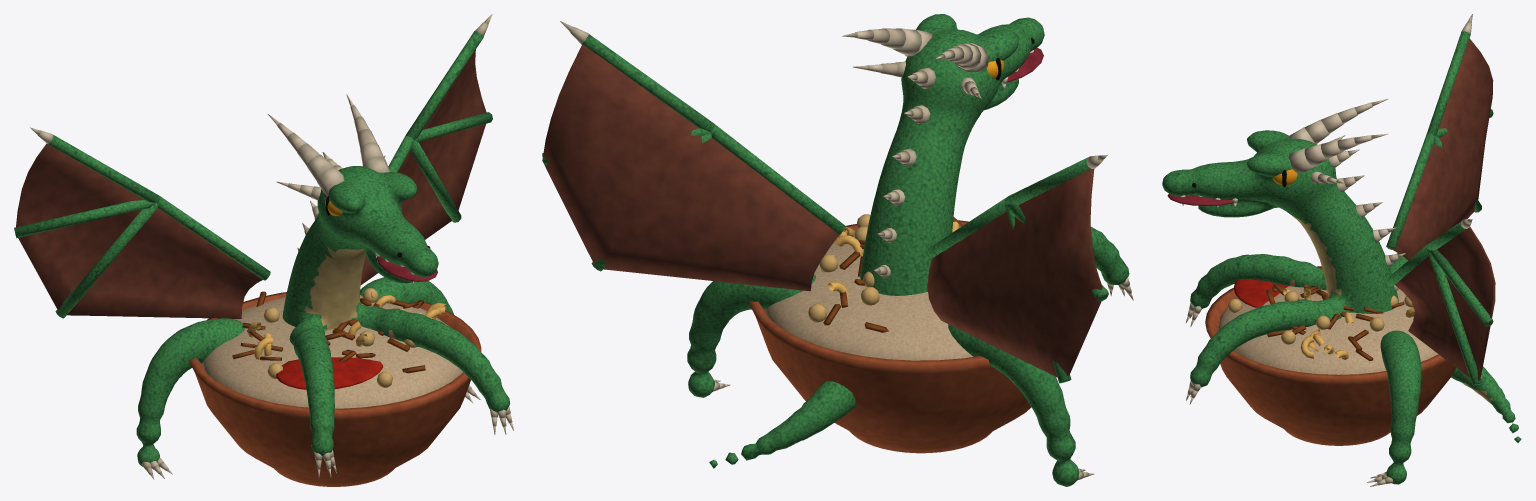
File: KosharyDragonReal.fbx
3 renders of one model, left to right at view 1: azimuth 30°, elevation 25°; view 2: azimuth 150°, elevation 25°; view 3: azimuth 270°, elevation 25°, orthographic. The views are drawn at different scales.
Parts seen in each view (by area): view 1: KosharyDragonReal; view 2: KosharyDragonReal; view 3: KosharyDragonReal.
Boxes of the visible parts, bbox=[...] form: KosharyDragonReal: bbox=[14, 14, 513, 486]; KosharyDragonReal: bbox=[542, 14, 1133, 486]; KosharyDragonReal: bbox=[1162, 14, 1521, 486].
Size of the model in its own units: 868 by 584 by 623.
1 material, 1 textured.
